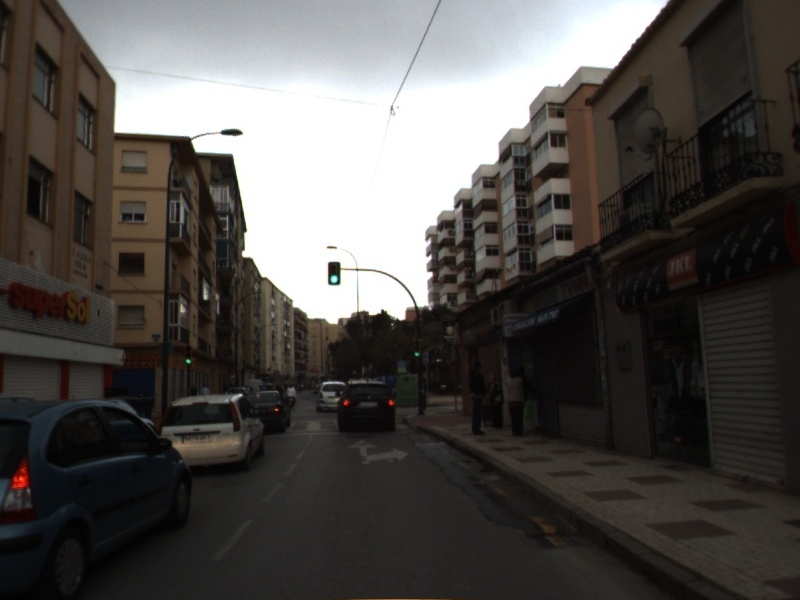STRAIGHT_RIGHT: (346, 438, 411, 466)
